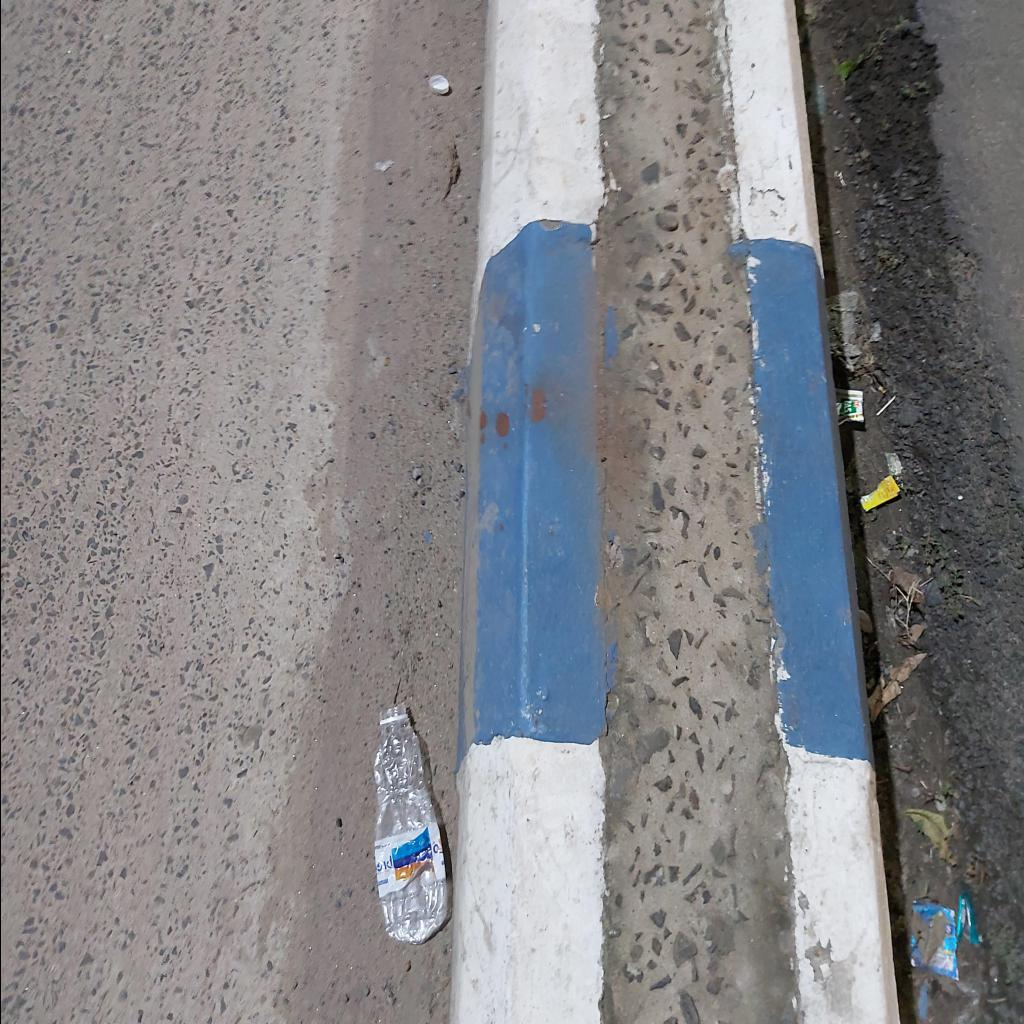Clear plastic bottle: (372, 704, 446, 944)
Other plastic: (909, 902, 957, 978), (859, 474, 899, 512), (956, 888, 982, 944), (834, 389, 863, 424)
Plastic bottle cap: (428, 75, 448, 95)
